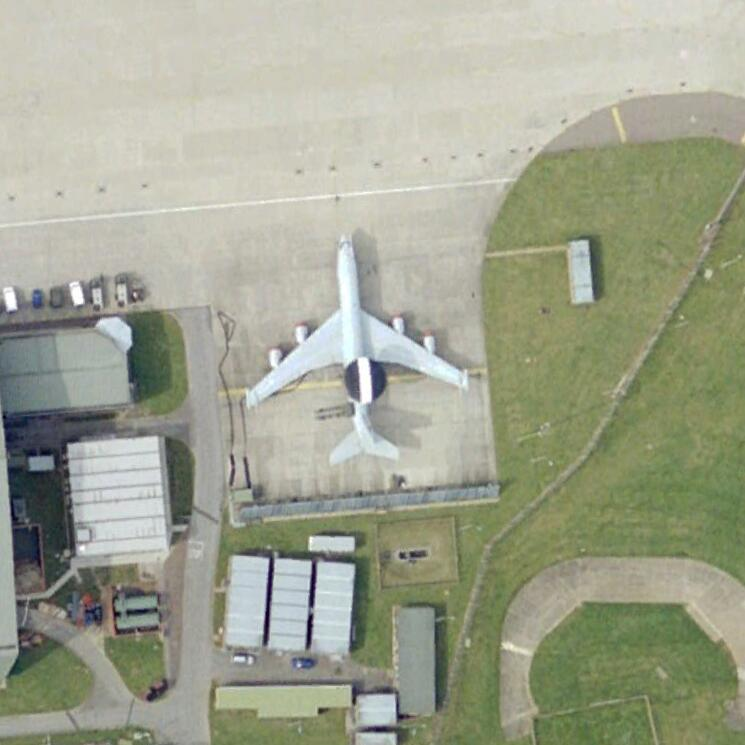A7: (240, 227, 474, 470)
